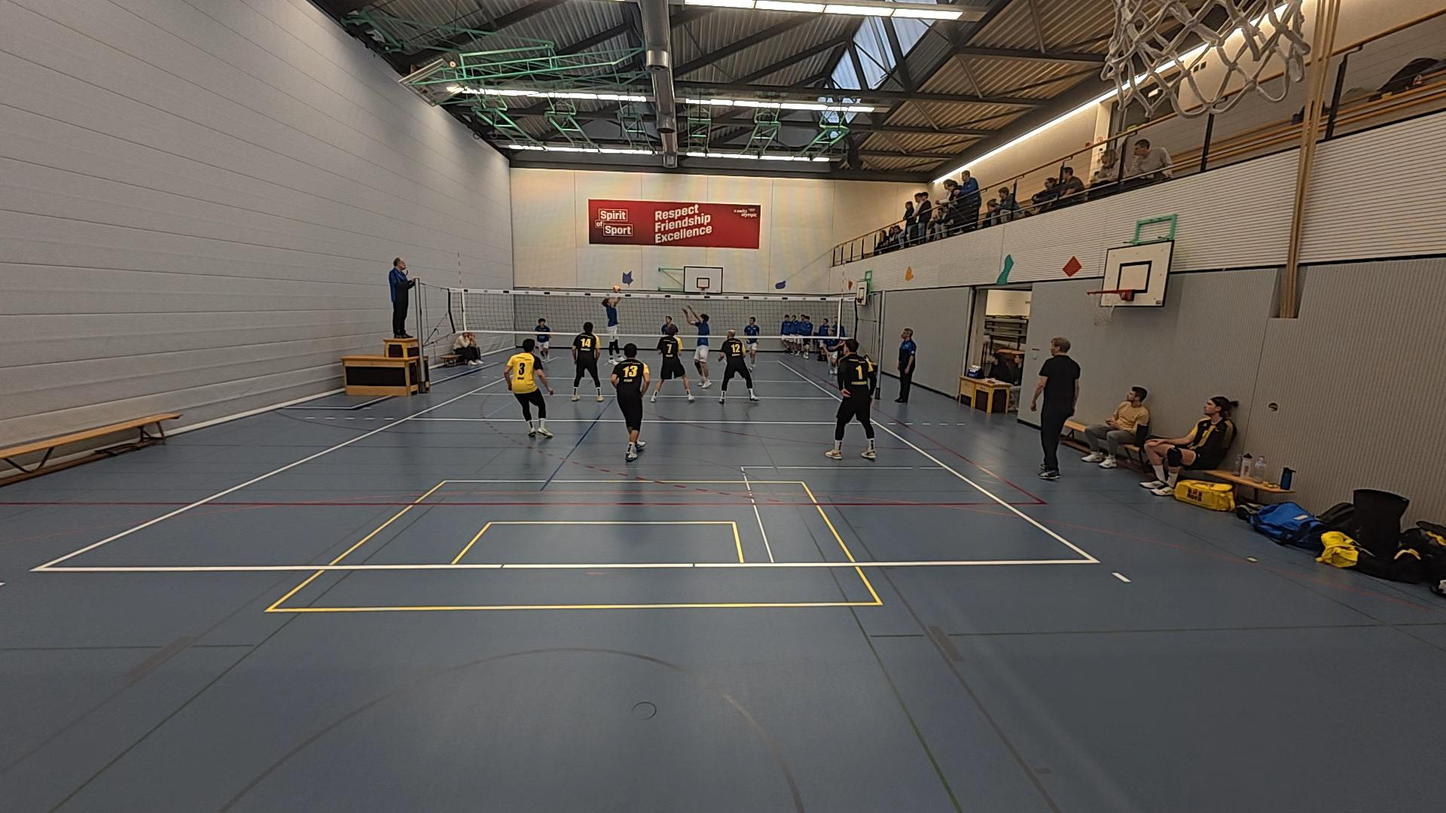alzata: (598, 285, 627, 365)
